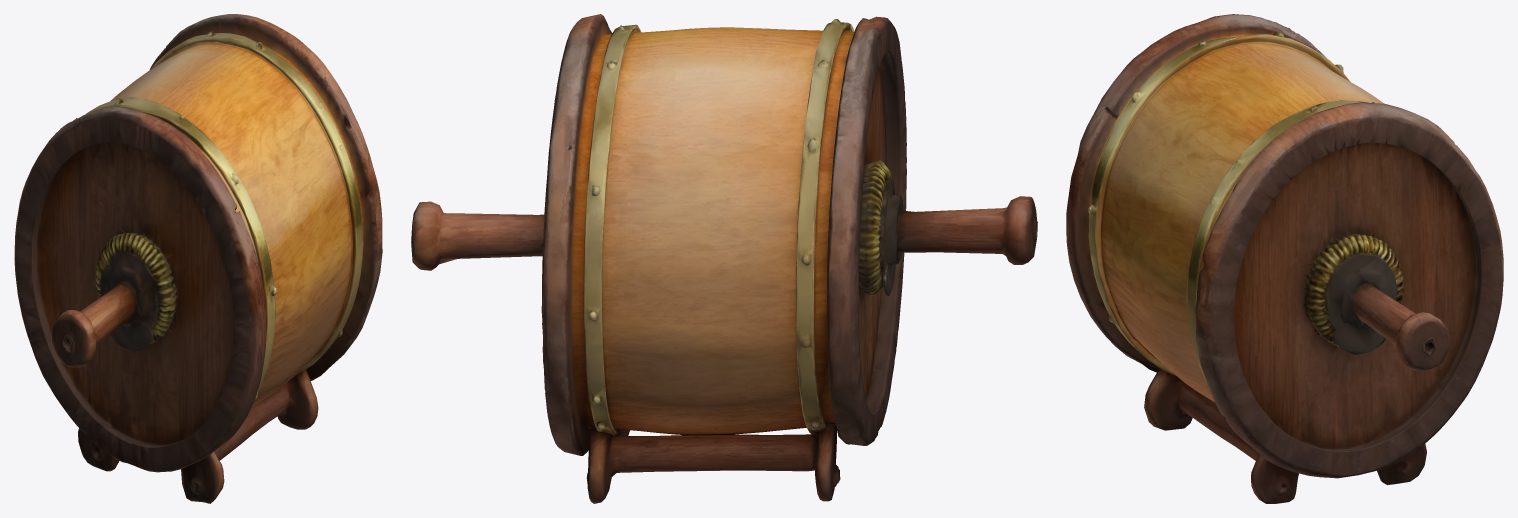
Rendered from cargo_core.glb.
3 views of the same model, side by side, from view 1: azimuth 30°, elevation 25°; view 2: azimuth 150°, elevation 25°; view 3: azimuth 270°, elevation 25° (orthographic). The views are drawn at different scales.
Parts seen in each view (by area): view 1: tripo_node_e47871e6-7fa3-40c4-ad2a-85967bd43acf; view 2: tripo_node_e47871e6-7fa3-40c4-ad2a-85967bd43acf; view 3: tripo_node_e47871e6-7fa3-40c4-ad2a-85967bd43acf.
Part boxes in pixels (x1=…): tripo_node_e47871e6-7fa3-40c4-ad2a-85967bd43acf: x1=14, y1=14, x2=382, y2=503; tripo_node_e47871e6-7fa3-40c4-ad2a-85967bd43acf: x1=411, y1=14, x2=1037, y2=503; tripo_node_e47871e6-7fa3-40c4-ad2a-85967bd43acf: x1=1066, y1=14, x2=1503, y2=503.
Size of the model in its own units: 0.19 by 0.17 by 0.17.
1 material, 1 textured.
